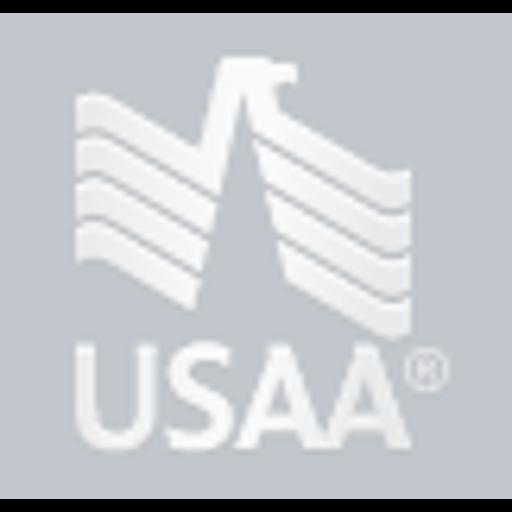United Services Automobile Association: (0, 13, 512, 499)
